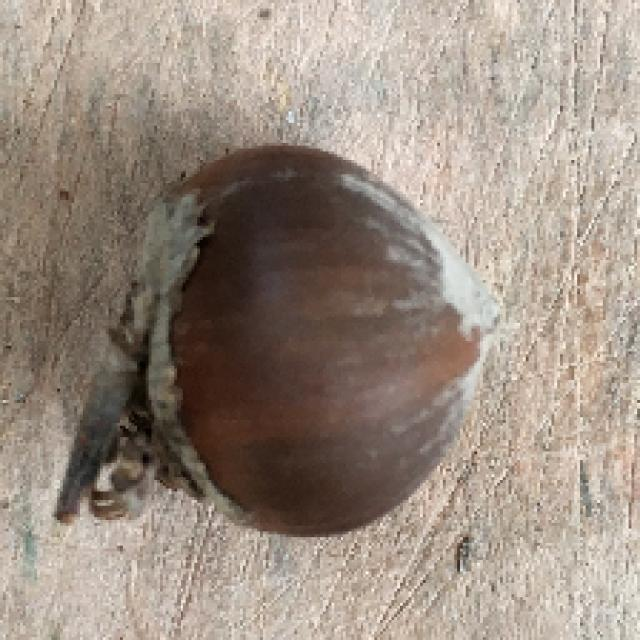damagedHazelnut: (70, 134, 506, 548)
